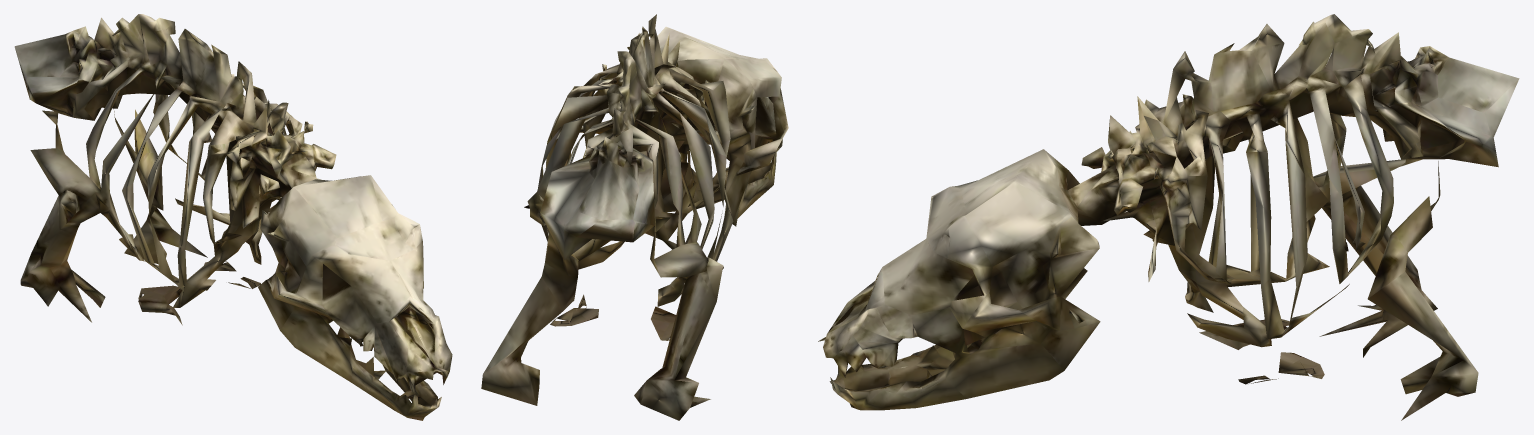
The model's file is p8bones.glb.
3 views of the same model, side by side, from view 1: azimuth 30°, elevation 25°; view 2: azimuth 150°, elevation 25°; view 3: azimuth 270°, elevation 25° (orthographic). The views are drawn at different scales.
Parts seen in each view (by area): view 1: tripo_node_c3cc8ffb-3eb4-4d75-896b-0dd0217b116e; view 2: tripo_node_c3cc8ffb-3eb4-4d75-896b-0dd0217b116e; view 3: tripo_node_c3cc8ffb-3eb4-4d75-896b-0dd0217b116e.
Boxes of the visible parts, <box> form: tripo_node_c3cc8ffb-3eb4-4d75-896b-0dd0217b116e: <box>14,14,452,420</box>; tripo_node_c3cc8ffb-3eb4-4d75-896b-0dd0217b116e: <box>481,14,788,420</box>; tripo_node_c3cc8ffb-3eb4-4d75-896b-0dd0217b116e: <box>818,14,1519,420</box>.
Bounding box in the file's own units: 0.4449 × 0.5549 × 0.9767.
1 material, 1 textured.
